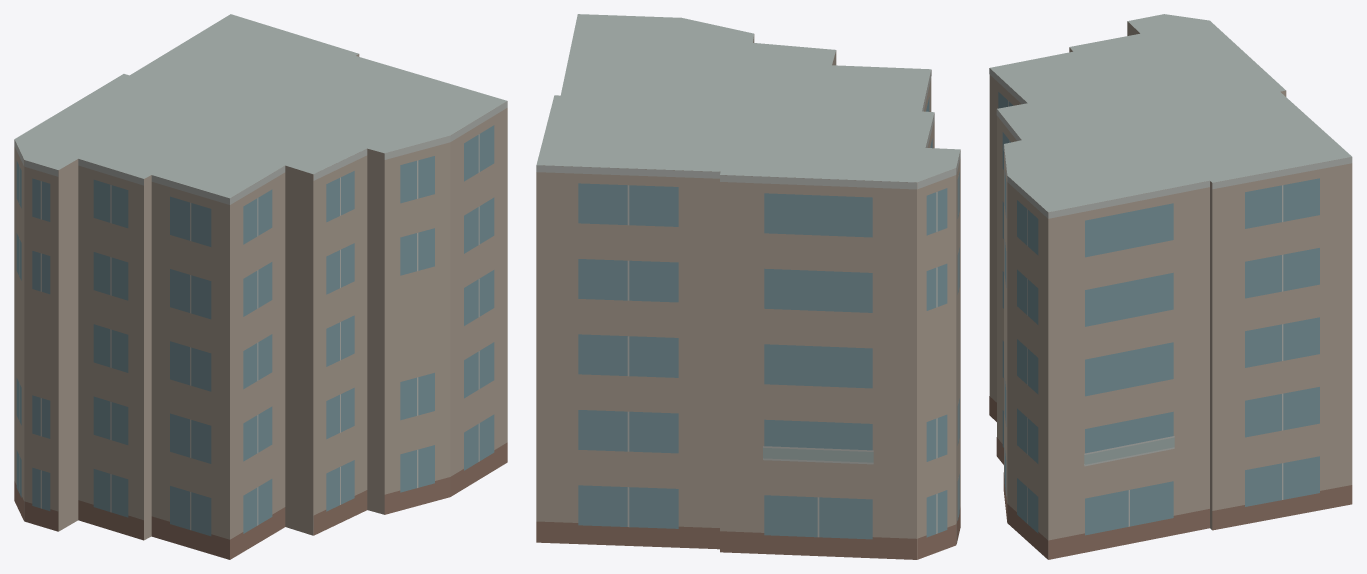
File: survey-upis-33027706.glb
3 views of the same model, side by side, from view 1: azimuth 30°, elevation 25°; view 2: azimuth 150°, elevation 25°; view 3: azimuth 270°, elevation 25° (orthographic). The views are drawn at different scales.
Visible parts, largest first — view 1: survey-upis-33027706.tmp; view 2: survey-upis-33027706.tmp; view 3: survey-upis-33027706.tmp.
Boxes of the visible parts, x1,y1,x2,y2 form: survey-upis-33027706.tmp: (14, 14, 507, 559); survey-upis-33027706.tmp: (536, 14, 960, 559); survey-upis-33027706.tmp: (989, 14, 1352, 559).
Size of the model in its own units: 16.11 by 13.15 by 12.45.
